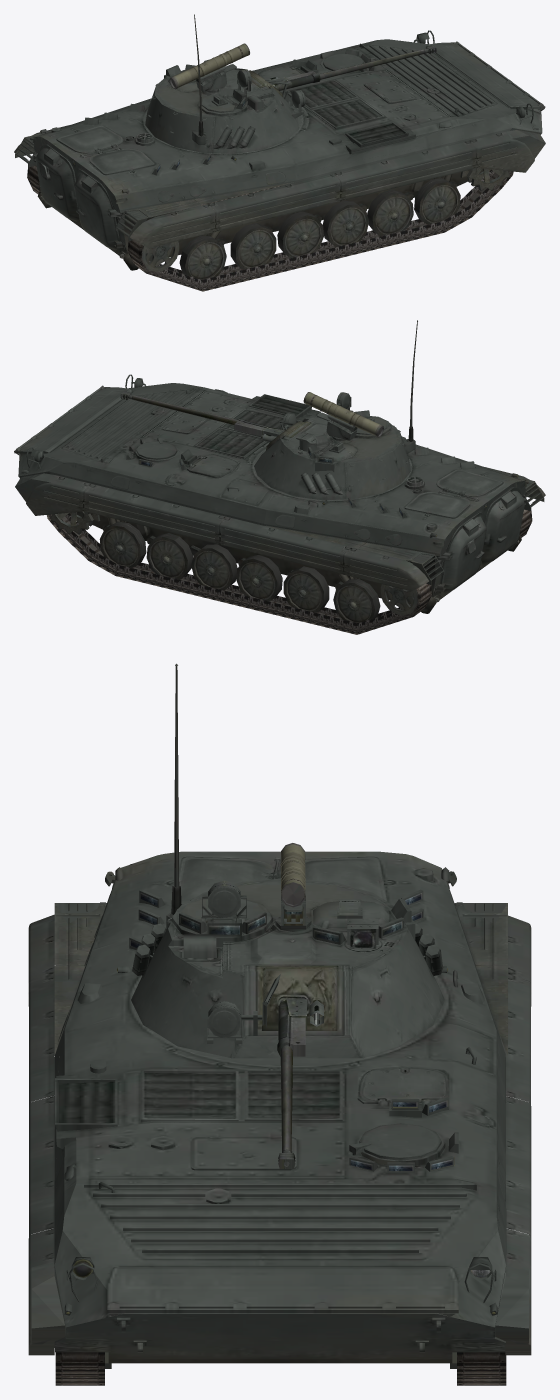
File: bmp-2.glb
The picture shows the model from 3 angles, top to bottom: view 1: azimuth 30°, elevation 25°; view 2: azimuth 150°, elevation 25°; view 3: azimuth 270°, elevation 25°; orthographic projection. The views are drawn at different scales.
Visible parts, largest first — view 1: hull.002, turret.002, track1.001, skirt3.001, skirt5.001, grill_, skirt.001, skirt7.001, hatch8.002, hatch7.002, guards, weapon.002 (+21 smaller); view 2: hull.002, turret.002, track2.001, skirt4, skirt6.001, skirt2.001, skirt8, hatch7.002, hatch8.002, grill_, guards, weapon.002 (+21 smaller); view 3: hull.002, turret.002, grill_, guards, skirt.001, skirt2.001, mount.002, skirt4, skirt3.001, skirt5.001, hatch4.002, weapon.002 (+14 smaller).
Boxes of the visible parts, x1=… form: hull.002: x1=30, y1=30, x2=545, y2=270; turret.002: x1=145, y1=59, x2=305, y2=153; track1.001: x1=127, y1=169, x2=513, y2=291; skirt3.001: x1=335, y1=140, x2=476, y2=200; skirt5.001: x1=209, y1=173, x2=340, y2=231; grill_: x1=290, y1=80, x2=403, y2=143; skirt.001: x1=470, y1=130, x2=545, y2=172; skirt7.001: x1=130, y1=204, x2=215, y2=247; hatch8.002: x1=74, y1=169, x2=121, y2=253; hatch7.002: x1=36, y1=144, x2=80, y2=225; guards: x1=15, y1=131, x2=293, y2=241; weapon.002: x1=270, y1=45, x2=436, y2=90; hull.002: x1=14, y1=374, x2=528, y2=613; turret.002: x1=254, y1=392, x2=415, y2=500; track2.001: x1=47, y1=513, x2=431, y2=634; skirt4: x1=84, y1=483, x2=225, y2=544; skirt6.001: x1=219, y1=516, x2=350, y2=574; skirt2.001: x1=15, y1=473, x2=89, y2=515; skirt8: x1=345, y1=547, x2=428, y2=591; hatch7.002: x1=439, y1=512, x2=486, y2=596; hatch8.002: x1=479, y1=487, x2=524, y2=568; grill_: x1=197, y1=397, x2=306, y2=456; guards: x1=266, y1=474, x2=544, y2=584; weapon.002: x1=120, y1=391, x2=284, y2=436; hull.002: x1=54, y1=851, x2=506, y2=1363; turret.002: x1=131, y1=878, x2=445, y2=1058; grill_: x1=58, y1=1073, x2=339, y2=1122; guards: x1=54, y1=902, x2=507, y2=1056; skirt.001: x1=28, y1=1228, x2=64, y2=1355; skirt2.001: x1=495, y1=1228, x2=531, y2=1355; mount.002: x1=262, y1=967, x2=338, y2=1030; skirt4: x1=506, y1=1096, x2=531, y2=1237; skirt3.001: x1=29, y1=1096, x2=54, y2=1236; skirt5.001: x1=29, y1=973, x2=54, y2=1104; hatch4.002: x1=357, y1=1066, x2=449, y2=1103; weapon.002: x1=277, y1=997, x2=306, y2=1168.
Bounding box in the file's own units: 6.75 × 3.69 × 3.37.
Materials: 14 (14 with a texture image).
